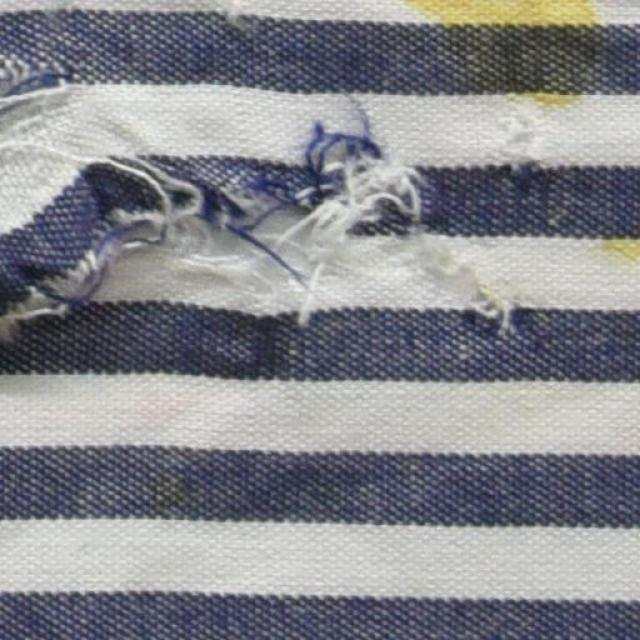cut: (0, 138, 511, 324), (0, 63, 80, 138)
